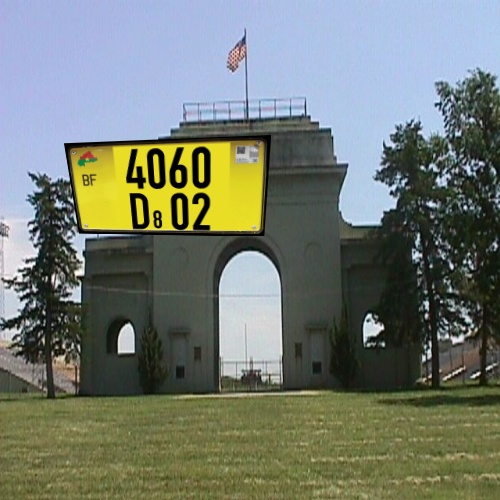plate: (56, 130, 290, 247)
